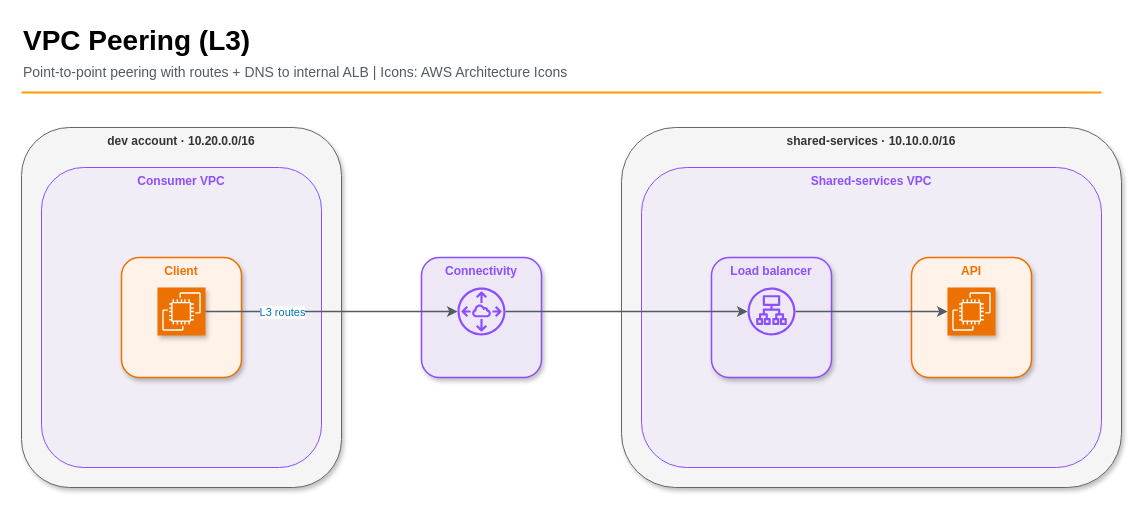
Image size: 1145x512. Some labels were removed from this diagram. Here are the shapes that lost their labels. From the top down, the centre of each, then its label:
At (182,312): "Amazon EC2 test instance".
At (481,311): "VPC Peering cross-account".
At (771,311): "ALB internal DNS".
At (972,312): "Amazon EC2 pattern=peering".
